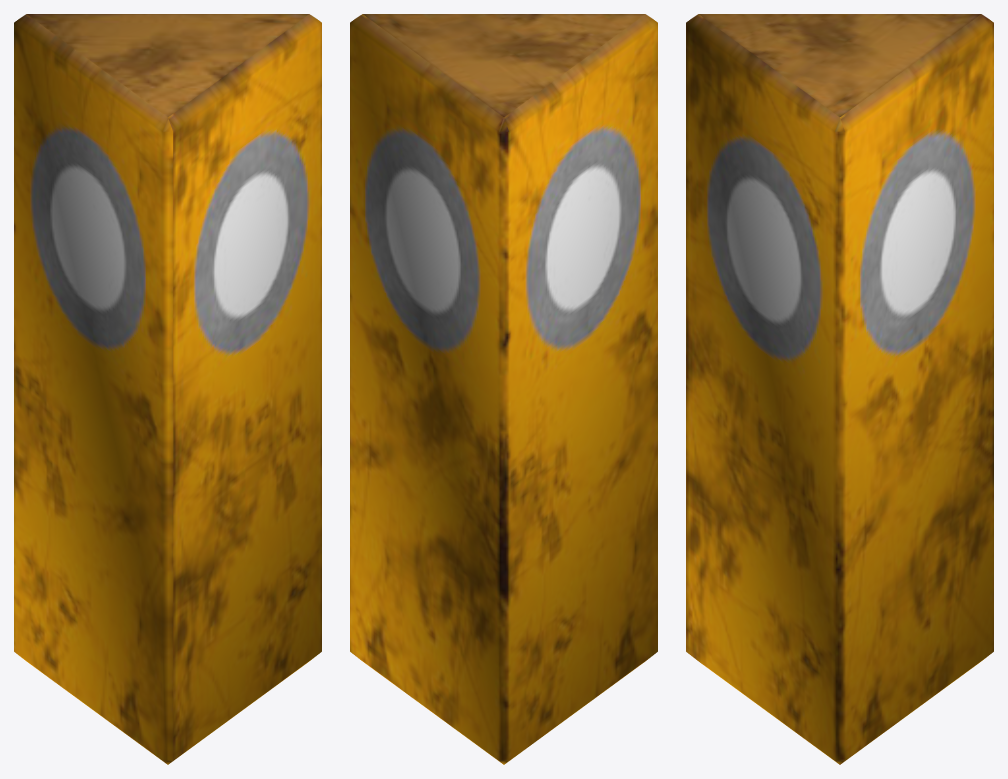
Rendered from tripole.glb.
3 renders of one model, left to right at view 1: azimuth 30°, elevation 25°; view 2: azimuth 150°, elevation 25°; view 3: azimuth 270°, elevation 25°, orthographic.
Visible parts, largest first — view 1: Cylinder; view 2: Cylinder; view 3: Cylinder.
Boxes of the visible parts, x1=… form: Cylinder: x1=14, y1=14, x2=321, y2=764; Cylinder: x1=350, y1=14, x2=657, y2=764; Cylinder: x1=686, y1=14, x2=993, y2=764.
Bounding box in the file's own units: 0.1307 × 0.35 × 0.1509.
Materials: 1 (1 with a texture image).
